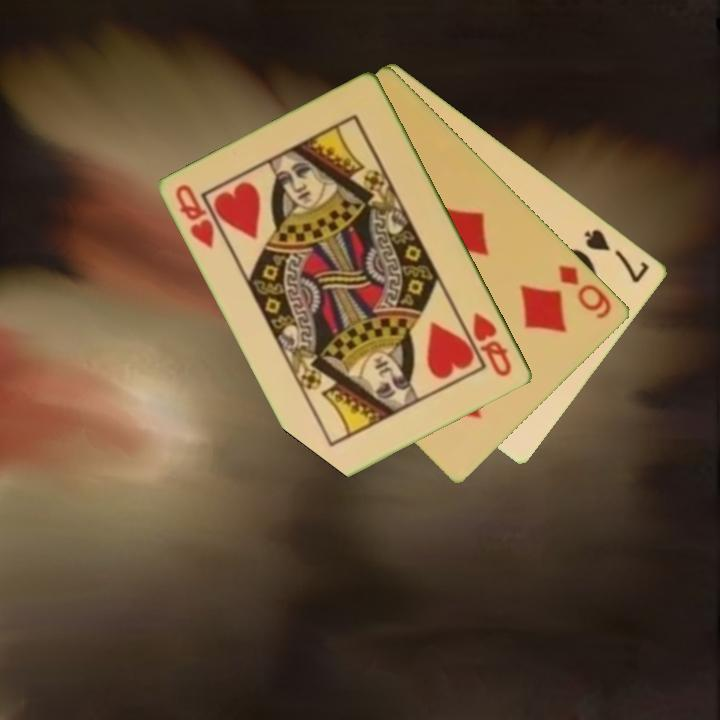6d: (555, 261, 615, 322)
7s: (580, 225, 653, 286)
Qh: (172, 181, 218, 252), (470, 309, 515, 380)
